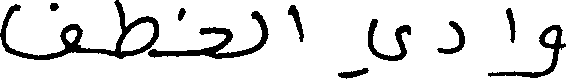ا: (504, 5, 514, 75), (291, 2, 302, 41)
خ: (173, 6, 230, 59)
د: (437, 18, 462, 53)
ط: (113, 0, 156, 60)
ف: (0, 0, 81, 60)
ل: (253, 8, 267, 52)
و: (513, 16, 565, 77)
ي: (338, 16, 409, 78)
